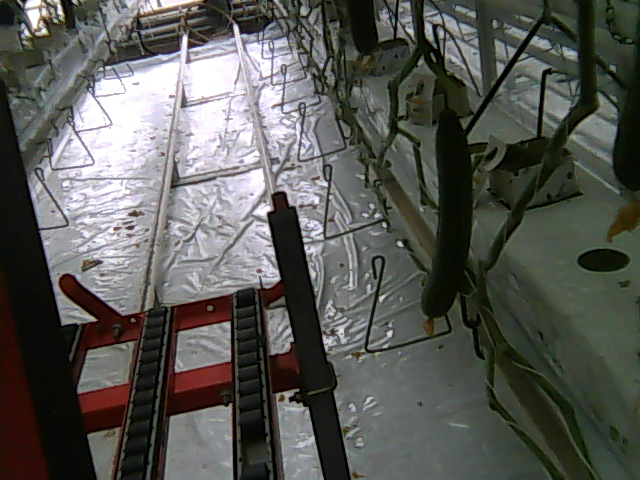concombre: (418, 106, 480, 338), (606, 38, 640, 246)
